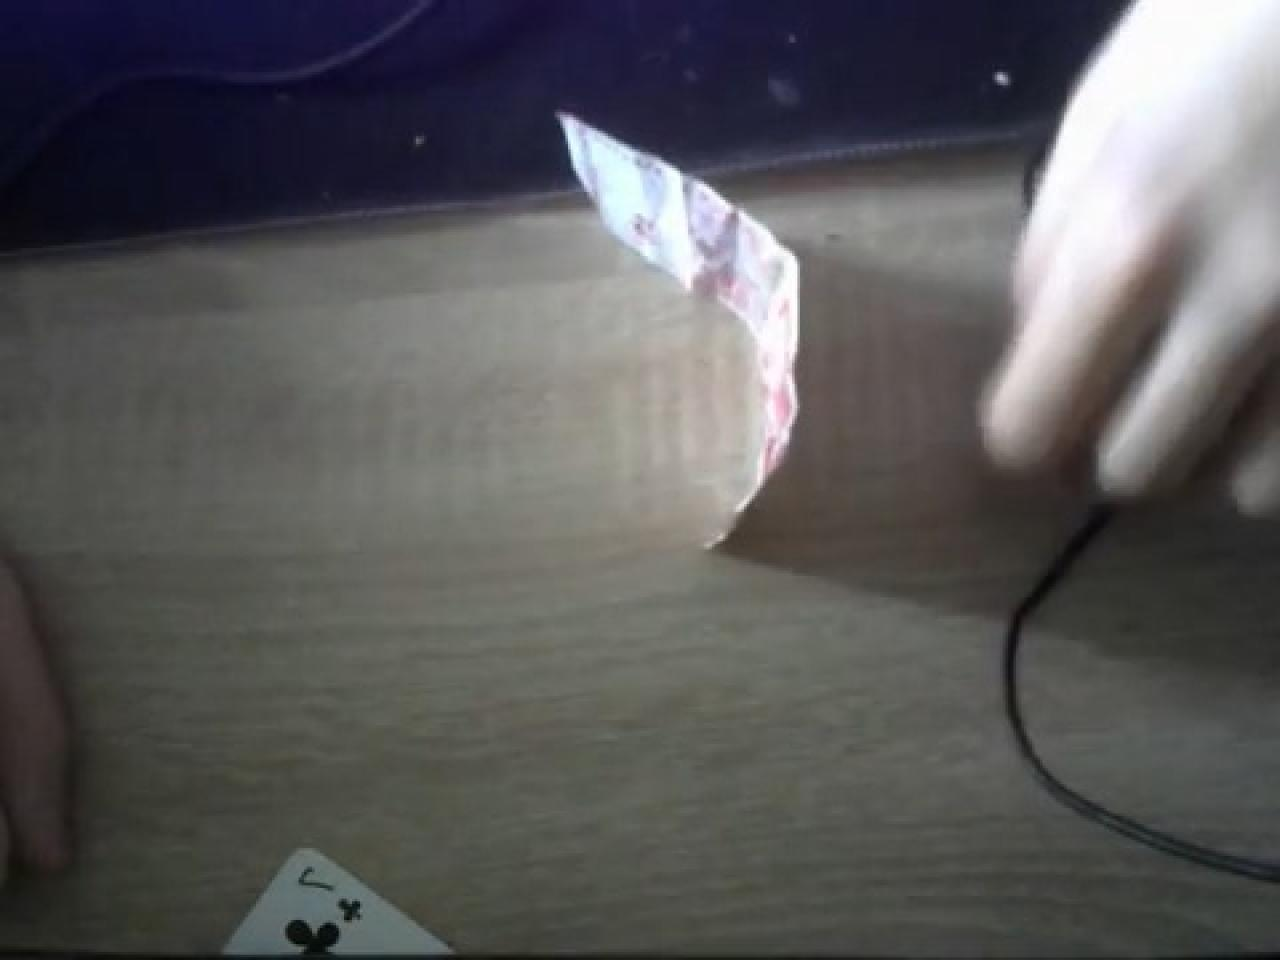5leva: (560, 117, 797, 477)
